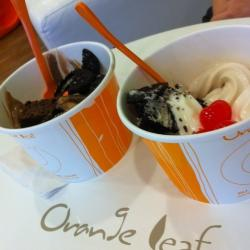icecream: (135, 66, 241, 144), (9, 63, 105, 129)
